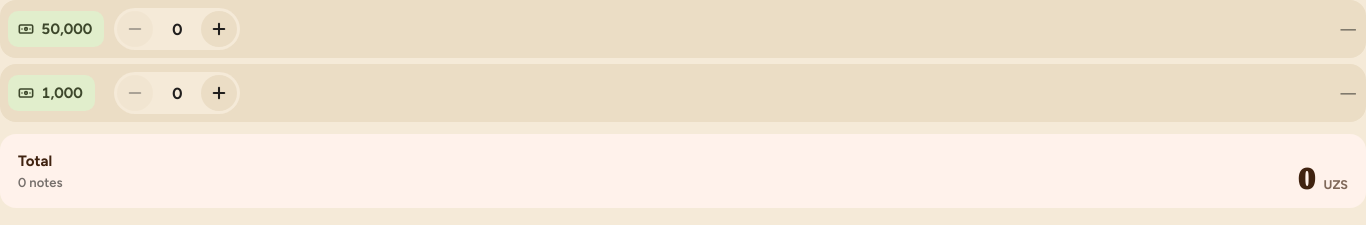
it: counting cash › counts with steppers and shows the running total
Click the button named "More" next to "50,000": [219, 29] box x1=201 y1=11 x2=237 y2=47
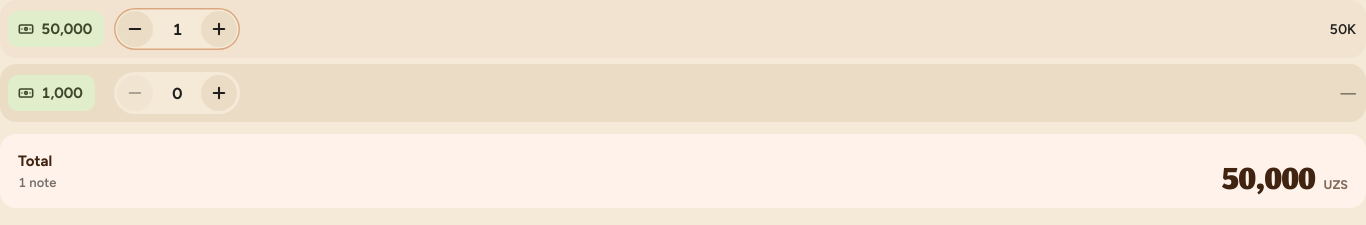
Click the button named "More" in the row of "50K": [219, 29] box x1=201 y1=11 x2=237 y2=47
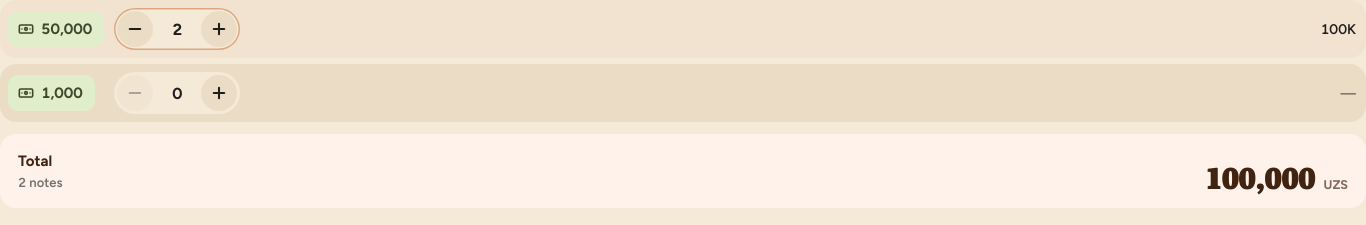
Click the button named "More" next to "1,000": [219, 93] box x1=201 y1=75 x2=237 y2=111
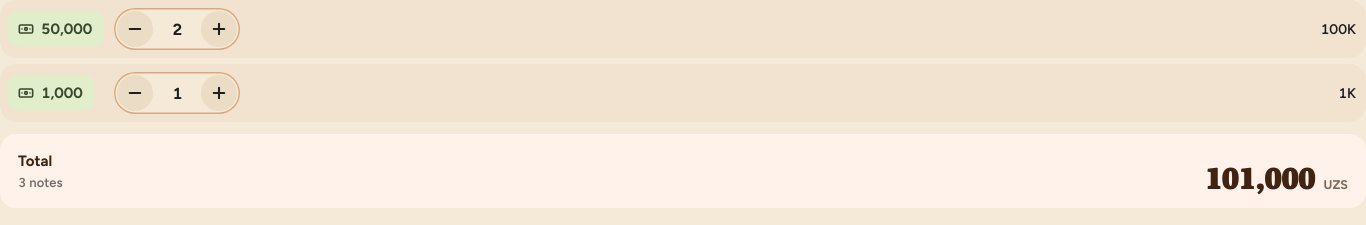
Check: the element with class "ui-money" reads "101,000 UZS", box x1=1205 y1=161 x2=1348 y2=192
Check: the element with class "ui-denoms-total-label" reads "Total 3 notes", box x1=18 y1=150 x2=62 y2=192
